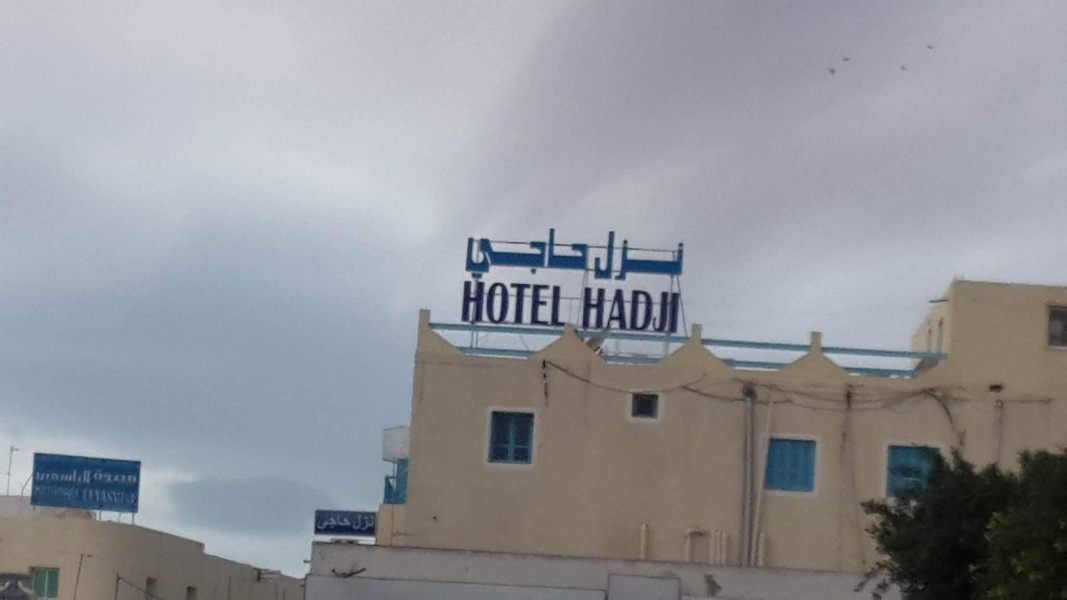text: (609, 228, 624, 286), (625, 228, 640, 286), (641, 228, 656, 286), (657, 228, 672, 286), (481, 226, 496, 281), (497, 226, 512, 281), (513, 226, 528, 281), (529, 226, 544, 281), (545, 226, 560, 281), (561, 226, 576, 281), (466, 226, 480, 281), (465, 277, 480, 328), (481, 277, 496, 328), (497, 277, 512, 328), (513, 277, 528, 328), (529, 277, 544, 328), (545, 277, 560, 328), (595, 228, 608, 286), (673, 228, 686, 286), (593, 285, 608, 335), (609, 285, 624, 335), (625, 285, 640, 335), (641, 285, 656, 335), (657, 285, 672, 335), (577, 226, 590, 281), (580, 285, 592, 335), (561, 277, 570, 328), (673, 285, 682, 335), (81, 483, 96, 506), (97, 483, 112, 506), (113, 483, 128, 506), (65, 483, 81, 504), (49, 466, 64, 487), (65, 466, 80, 487), (33, 483, 48, 504), (49, 483, 64, 504), (34, 466, 48, 487), (81, 466, 95, 487), (321, 513, 336, 531), (337, 513, 352, 531), (129, 483, 140, 506), (97, 468, 112, 484), (113, 468, 128, 484), (354, 515, 368, 532), (129, 468, 143, 484), (461, 277, 464, 328), (369, 515, 375, 532), (92, 468, 96, 484), (317, 513, 320, 531)
